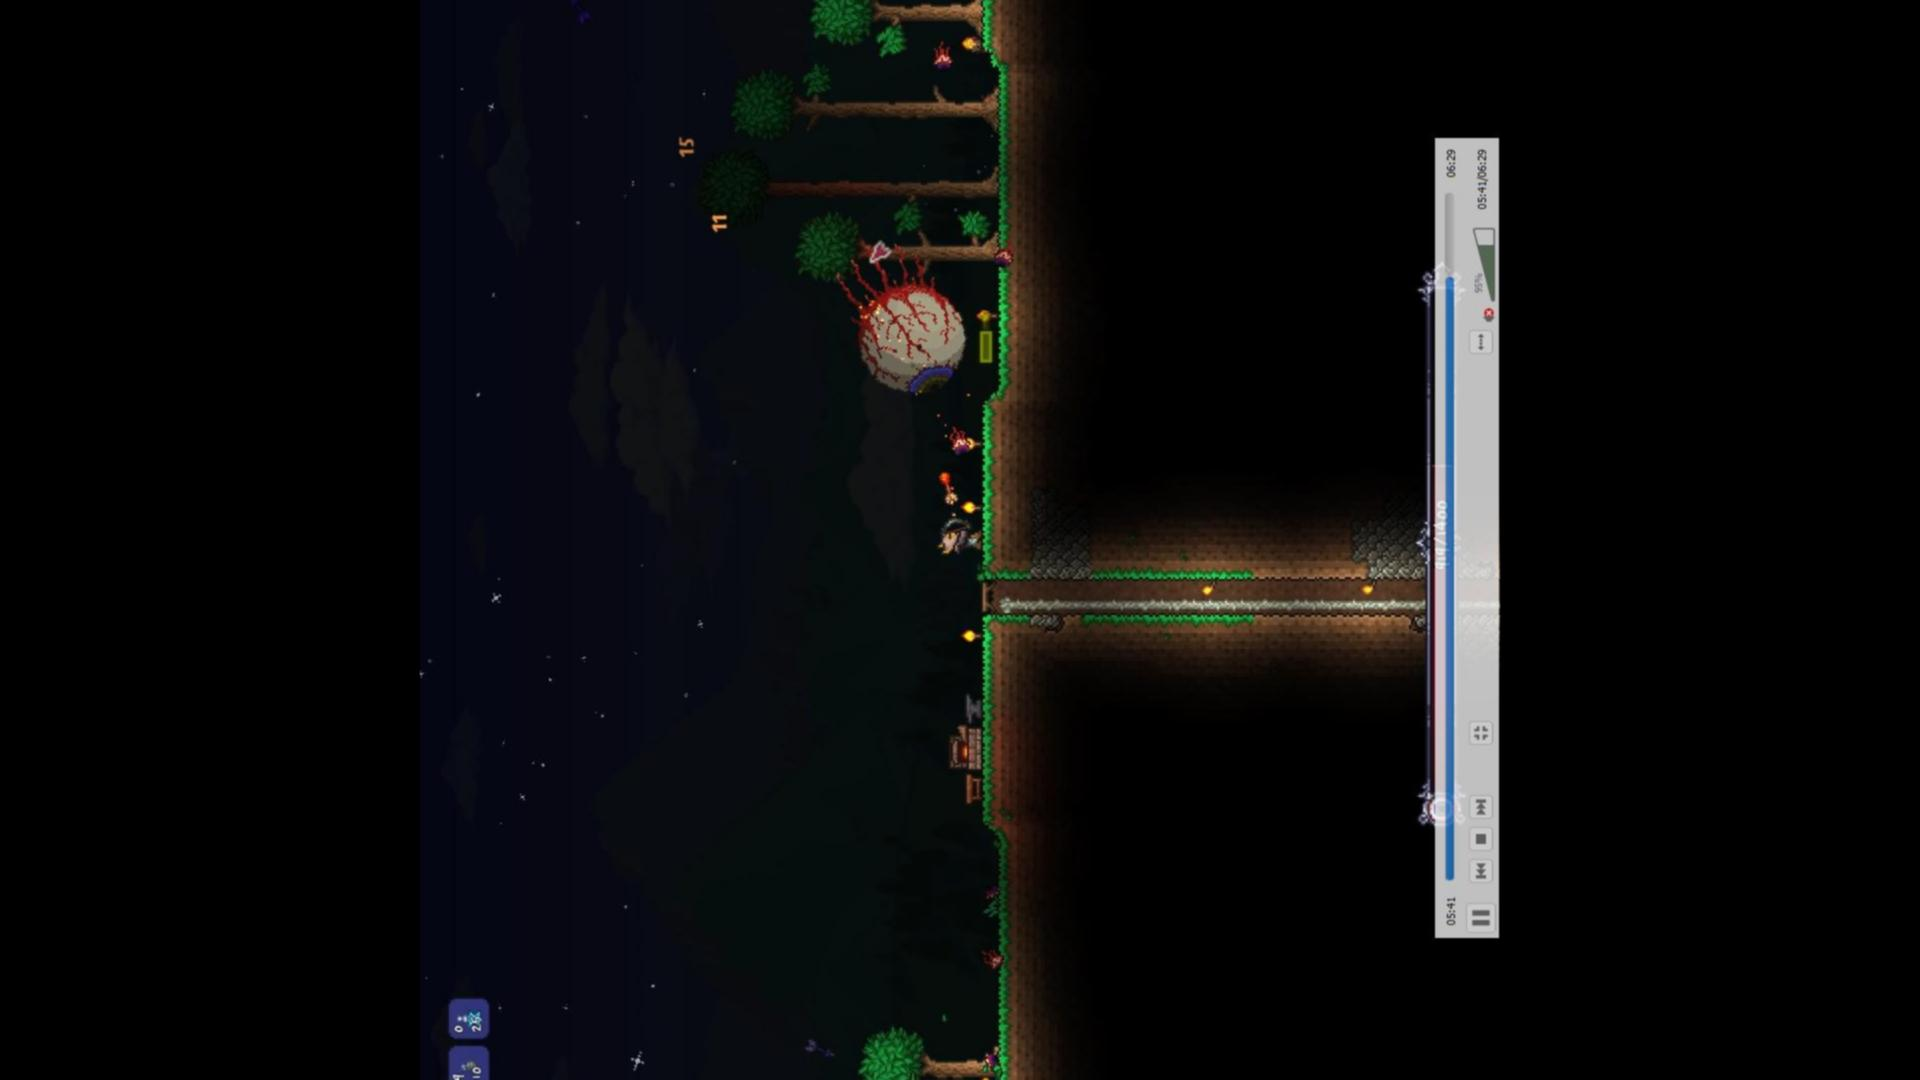eyeC: (832, 239, 972, 402)
